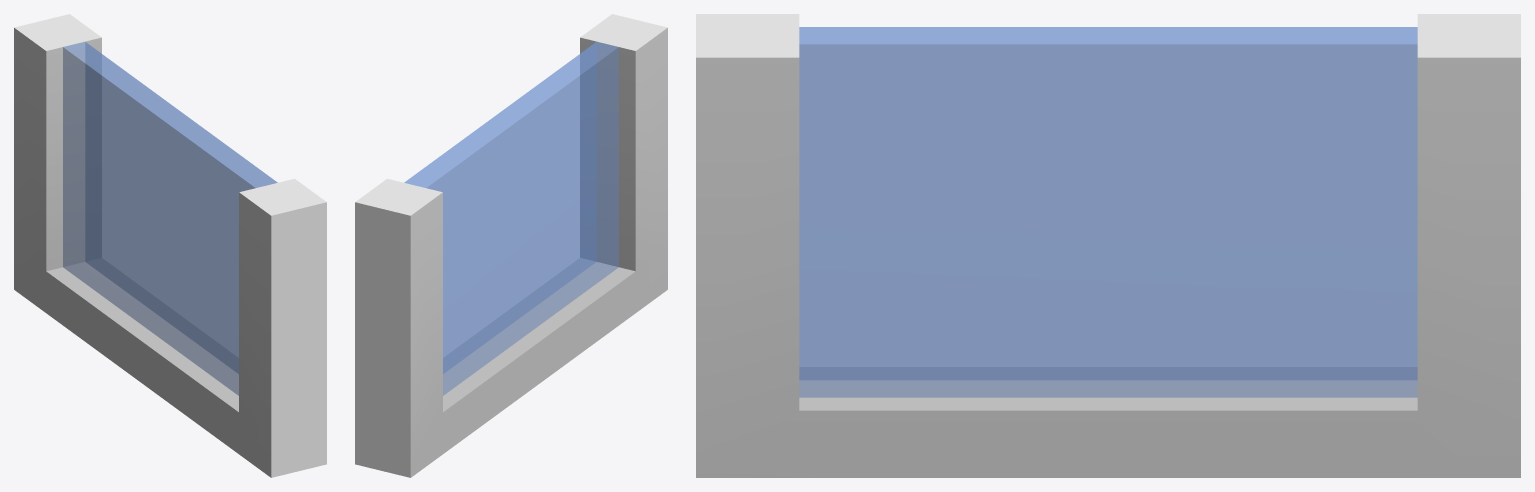
The model's file is Wall_4m_window.fbx.
3 views of the same model, side by side, from view 1: azimuth 30°, elevation 25°; view 2: azimuth 150°, elevation 25°; view 3: azimuth 270°, elevation 25° (orthographic). The views are drawn at different scales.
Parts seen in each view (by area): view 1: Wall_4m_window, Wall_4m_glass; view 2: Wall_4m_window, Wall_4m_glass; view 3: Wall_4m_glass, Wall_4m_window.
Boxes of the visible parts, x1,y1,x2,y2 form: Wall_4m_window: (14,14,326,477); Wall_4m_glass: (63,42,277,395); Wall_4m_window: (355,14,667,477); Wall_4m_glass: (404,42,618,395); Wall_4m_glass: (799,27,1417,397); Wall_4m_window: (696,14,1520,477).
Size of the model in its own units: 50 by 225 by 400.
